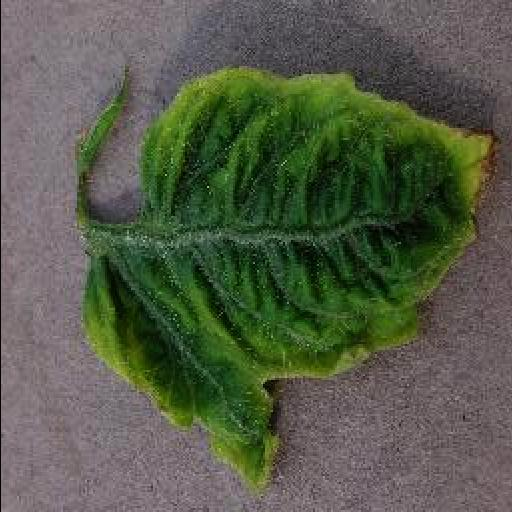disease_tomato: (79, 69, 497, 491)
